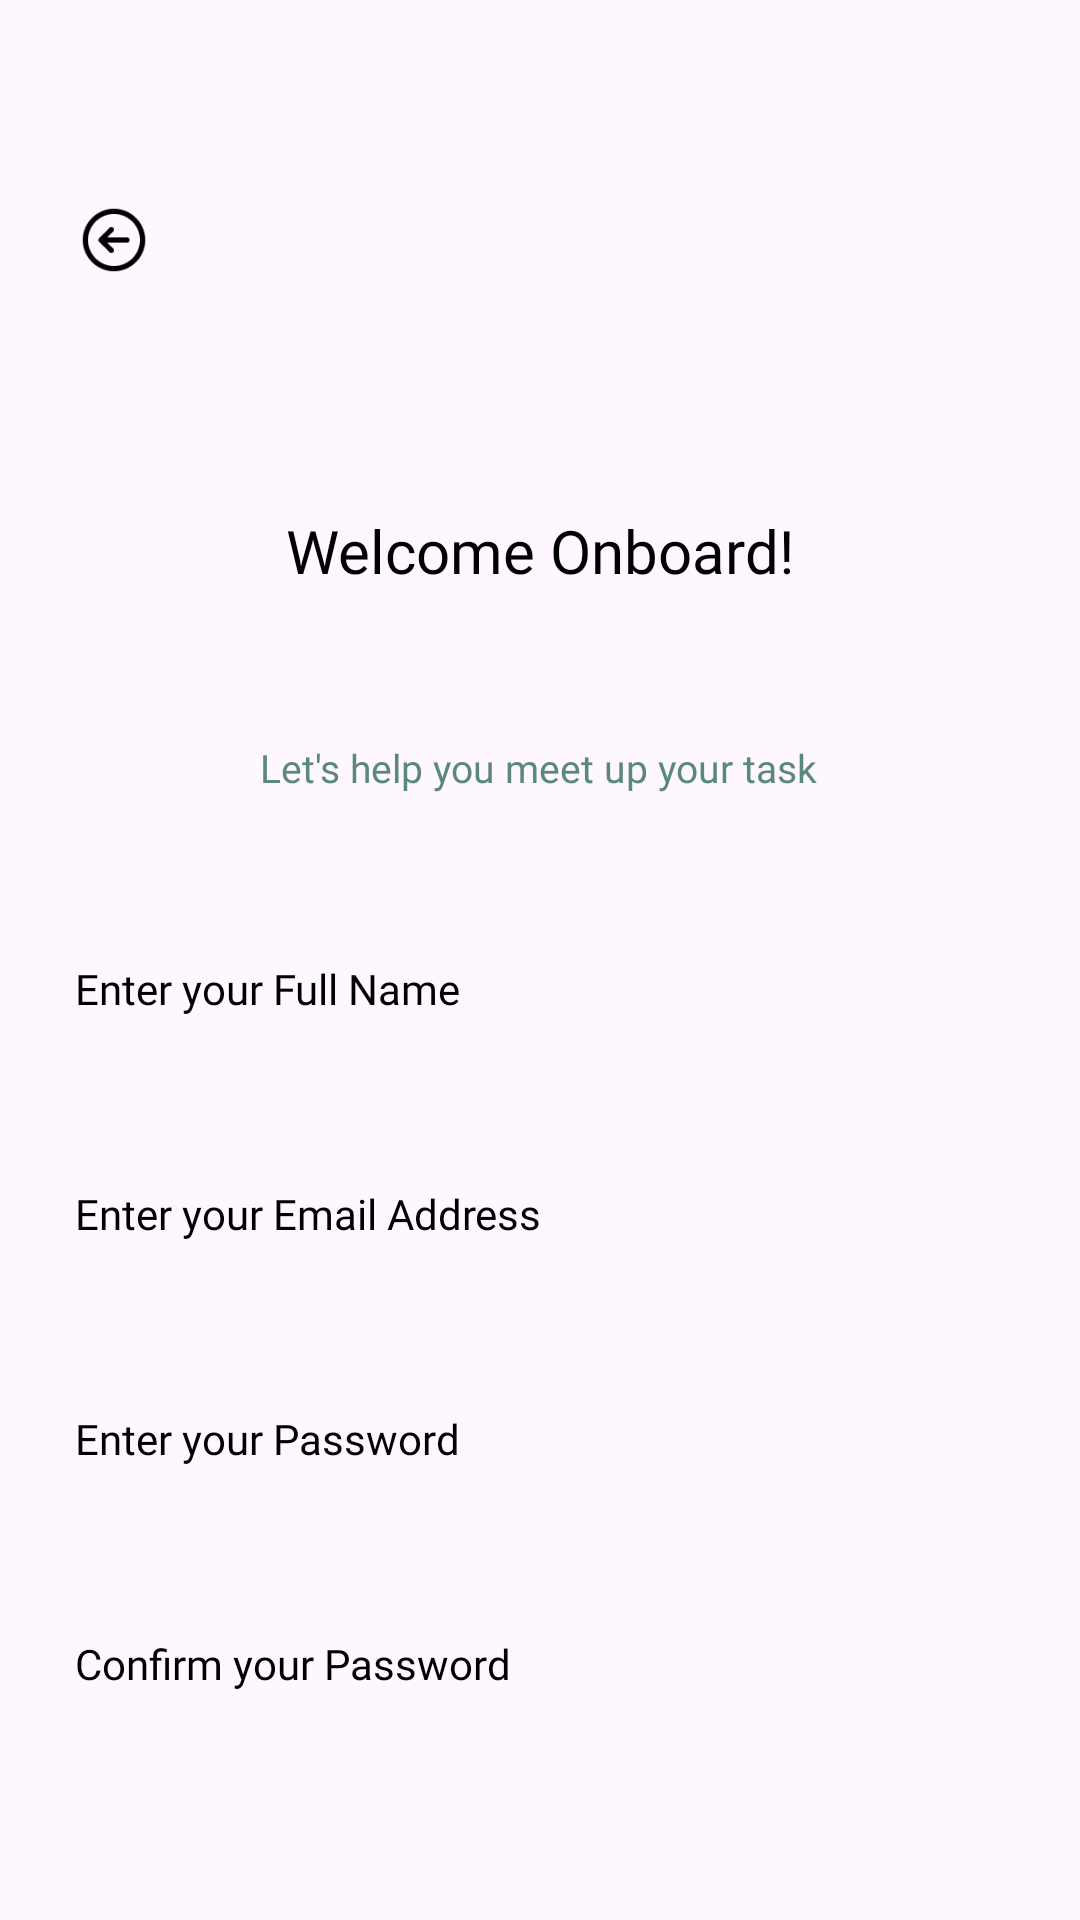

Icon click points for this 1080px x 1920px phone screenshot, format (x=x, y=y):
back: (x=114, y=240)
